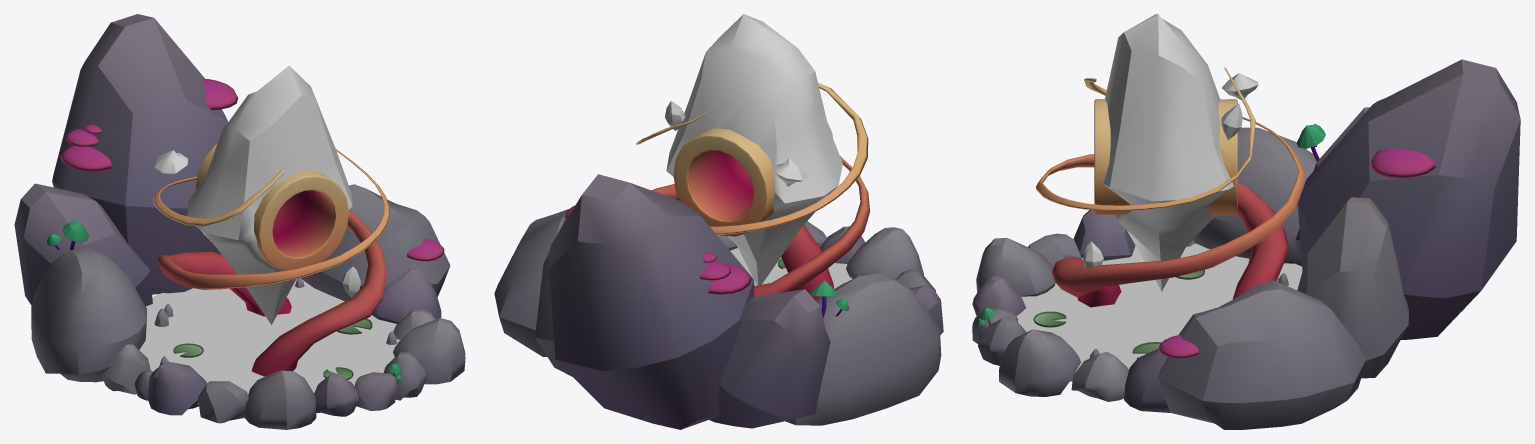
The model's file is Soul_Sphere_V2_Complete.fbx.
The picture shows the model from 3 angles, left to right: view 1: azimuth 30°, elevation 25°; view 2: azimuth 150°, elevation 25°; view 3: azimuth 270°, elevation 25°; orthographic projection. The views are drawn at different scales.
Visible parts, largest first — view 1: SoulSphere_Rocks, Soul_Sphere, SoulSphere_Pond, FloatingCrystal_2; view 2: SoulSphere_Rocks, Soul_Sphere, SoulSphere_Pond, FloatingCrystal_2; view 3: SoulSphere_Rocks, Soul_Sphere, SoulSphere_Pond, FloatingCrystal_2, FloatingCrystal_1.
Boxes of the visible parts, bbox=[...] form: SoulSphere_Rocks: bbox=[14, 14, 465, 429]; Soul_Sphere: bbox=[187, 65, 352, 324]; SoulSphere_Pond: bbox=[139, 278, 400, 404]; FloatingCrystal_2: bbox=[154, 150, 187, 174]; SoulSphere_Rocks: bbox=[494, 83, 943, 429]; Soul_Sphere: bbox=[666, 14, 842, 285]; SoulSphere_Pond: bbox=[730, 248, 852, 288]; FloatingCrystal_2: bbox=[773, 158, 807, 186]; SoulSphere_Rocks: bbox=[972, 59, 1520, 429]; Soul_Sphere: bbox=[1094, 14, 1237, 291]; SoulSphere_Pond: bbox=[1016, 243, 1302, 381]; FloatingCrystal_2: bbox=[1222, 73, 1258, 99]; FloatingCrystal_1: bbox=[1221, 103, 1242, 139].
Bounding box in the file's own units: 19.22 × 13.42 × 20.92.
